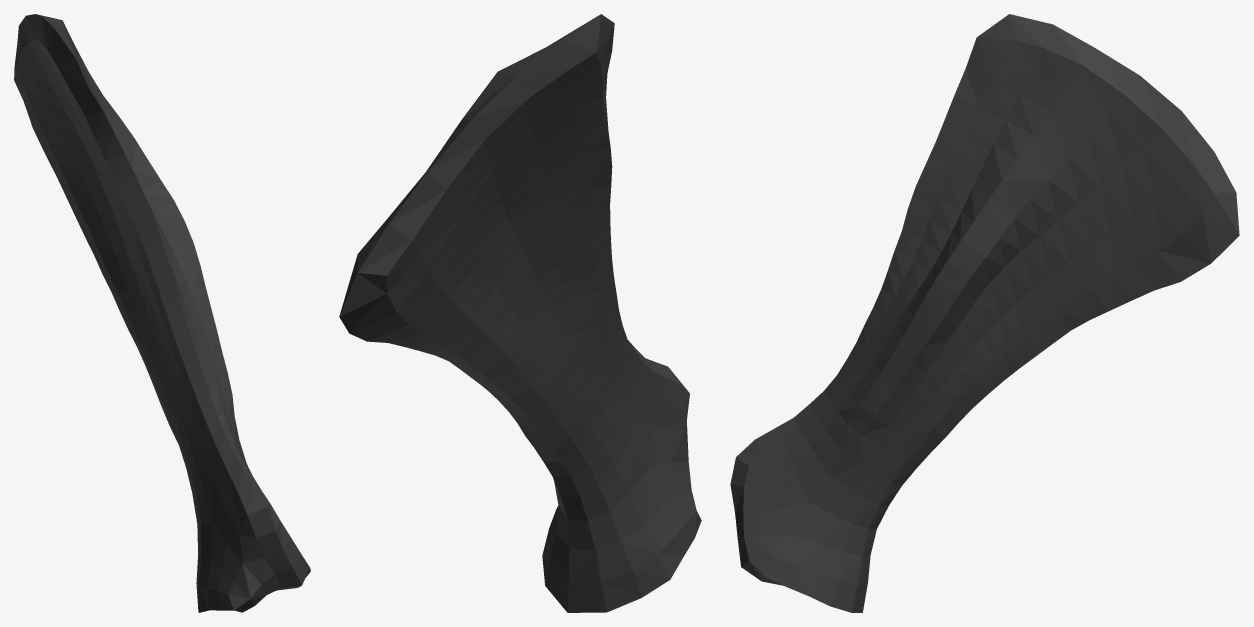
Rendered from LFL_scapula_main.glb.
3 renders of one model, left to right at view 1: azimuth 30°, elevation 25°; view 2: azimuth 150°, elevation 25°; view 3: azimuth 270°, elevation 25°, orthographic. The views are drawn at different scales.
Visible parts, largest first — view 1: LFL_scapula_main; view 2: LFL_scapula_main; view 3: LFL_scapula_main.
Part boxes in pixels (x1=…): LFL_scapula_main: x1=14, y1=14, x2=310, y2=612; LFL_scapula_main: x1=339, y1=14, x2=701, y2=612; LFL_scapula_main: x1=730, y1=14, x2=1239, y2=612.
Size of the model in its own units: 13.44 by 49.24 by 41.29.
Materials: 1 (1 with a texture image).
